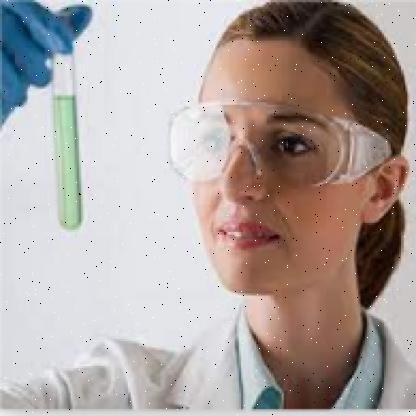oculos: (153, 98, 397, 192)
